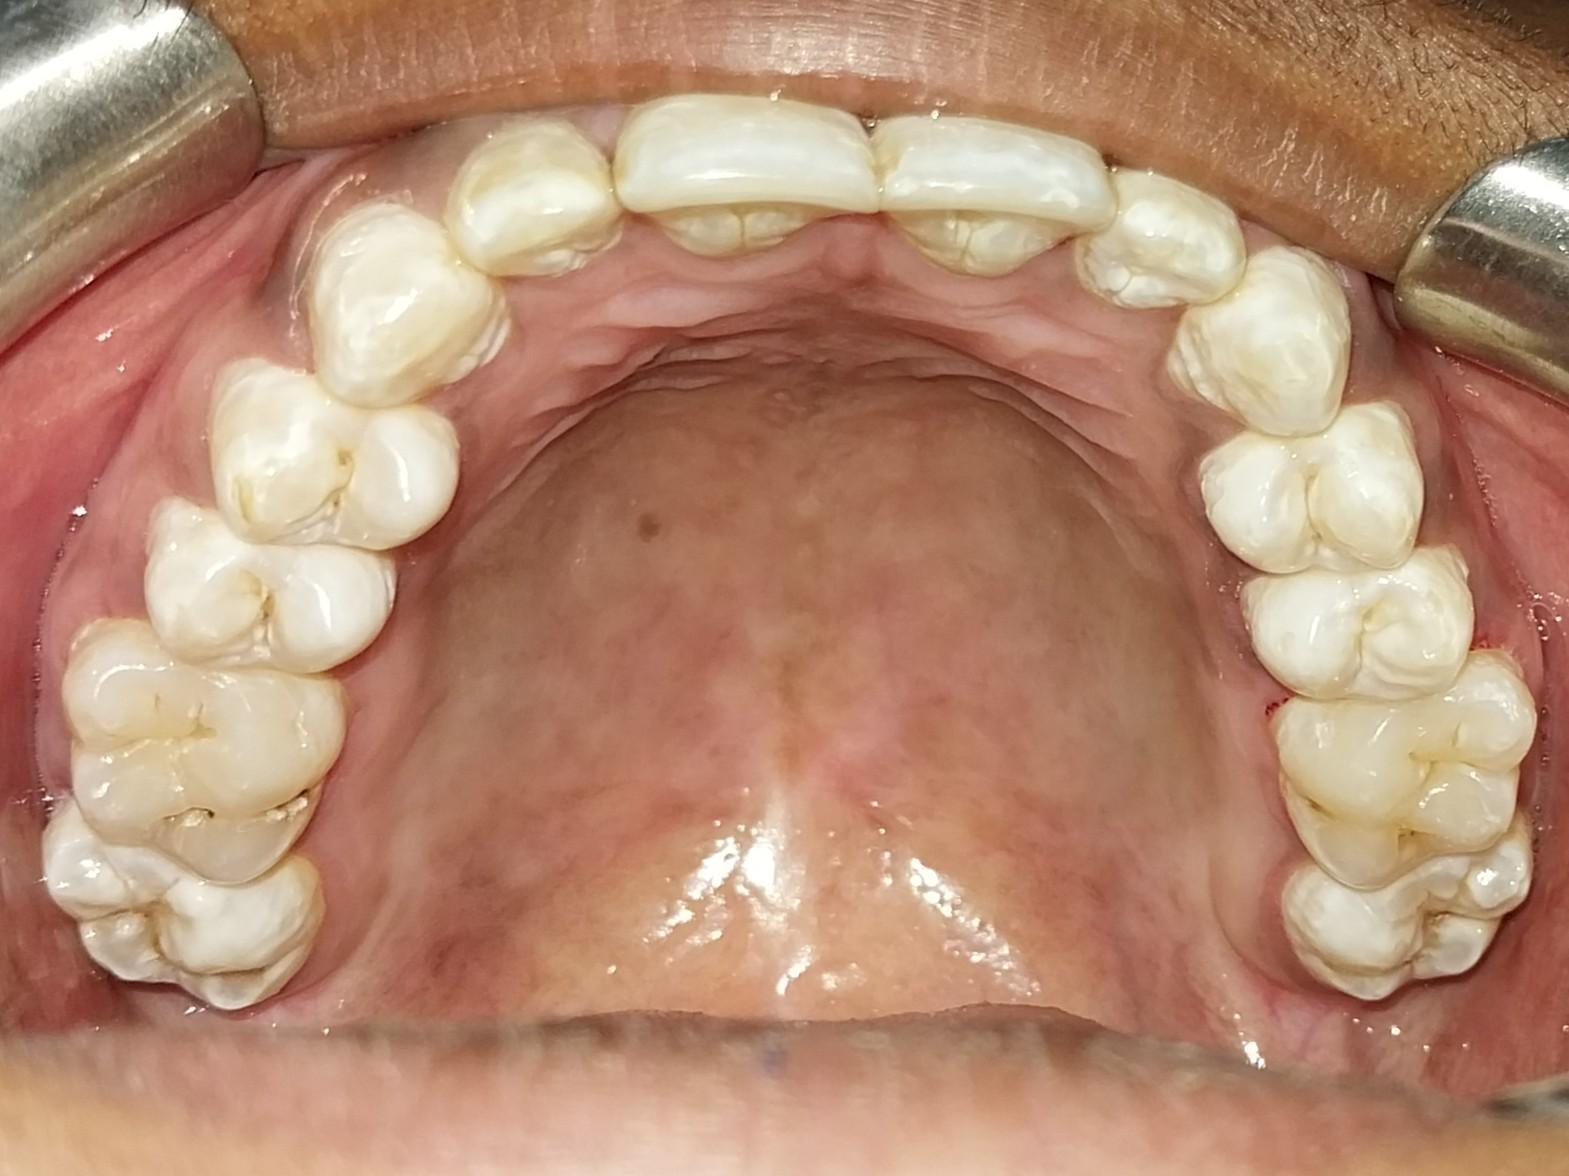D: (78, 644, 348, 882)
